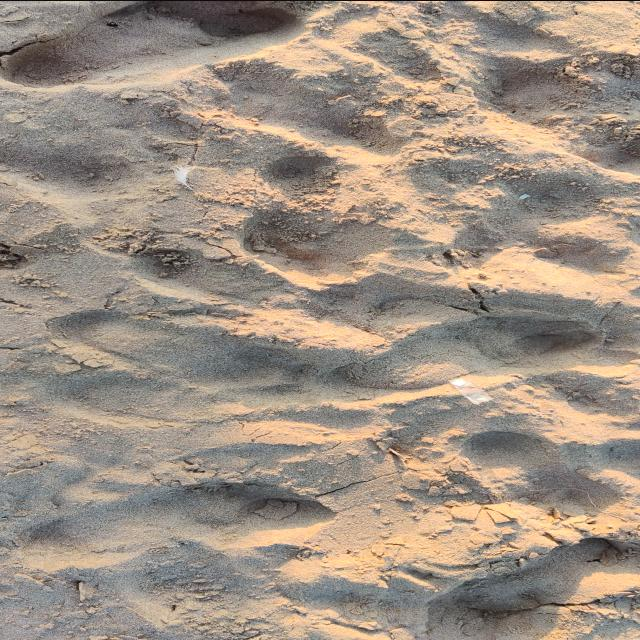Plastic film: (445, 376, 494, 404)
